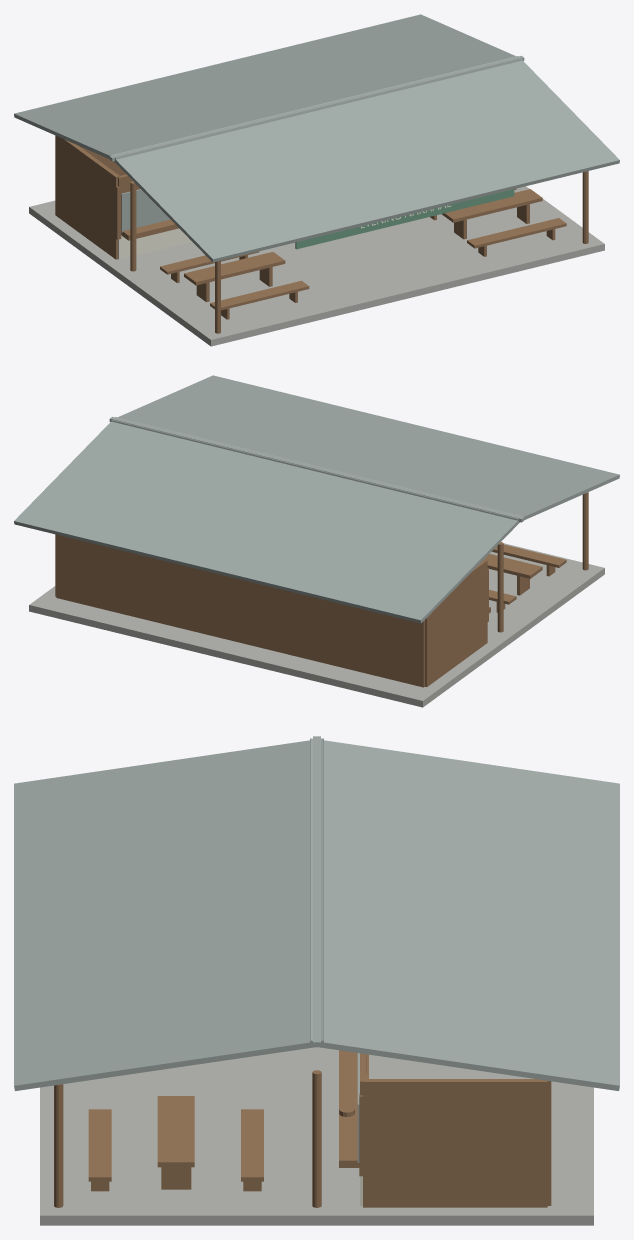
Rendered from evening_nakamal.glb.
3 views of the same model, one above another, from view 1: azimuth 30°, elevation 25°; view 2: azimuth 150°, elevation 25°; view 3: azimuth 270°, elevation 25° (orthographic). The views are drawn at different scales.
Visible parts, largest first — view 1: roof, concrete, wood, green, cream, roof.001; view 2: roof, wood, concrete; view 3: roof, concrete, wood.
Boxes of the visible parts, x1=… form: roof: x1=14, y1=14, x2=619, y2=262; concrete: x1=29, y1=186, x2=604, y2=346; wood: x1=55, y1=135, x2=588, y2=333; green: x1=295, y1=189, x2=514, y2=249; cream: x1=118, y1=205, x2=451, y2=259; roof.001: x1=121, y1=189, x2=170, y2=232; roof: x1=14, y1=375, x2=619, y2=623; wood: x1=55, y1=492, x2=588, y2=687; concrete: x1=29, y1=543, x2=604, y2=707; roof: x1=14, y1=736, x2=619, y2=1090; concrete: x1=40, y1=1047, x2=593, y2=1225; wood: x1=54, y1=1050, x2=551, y2=1207.
Size of the model in its own units: 15.7 by 4.55 by 13.13.
